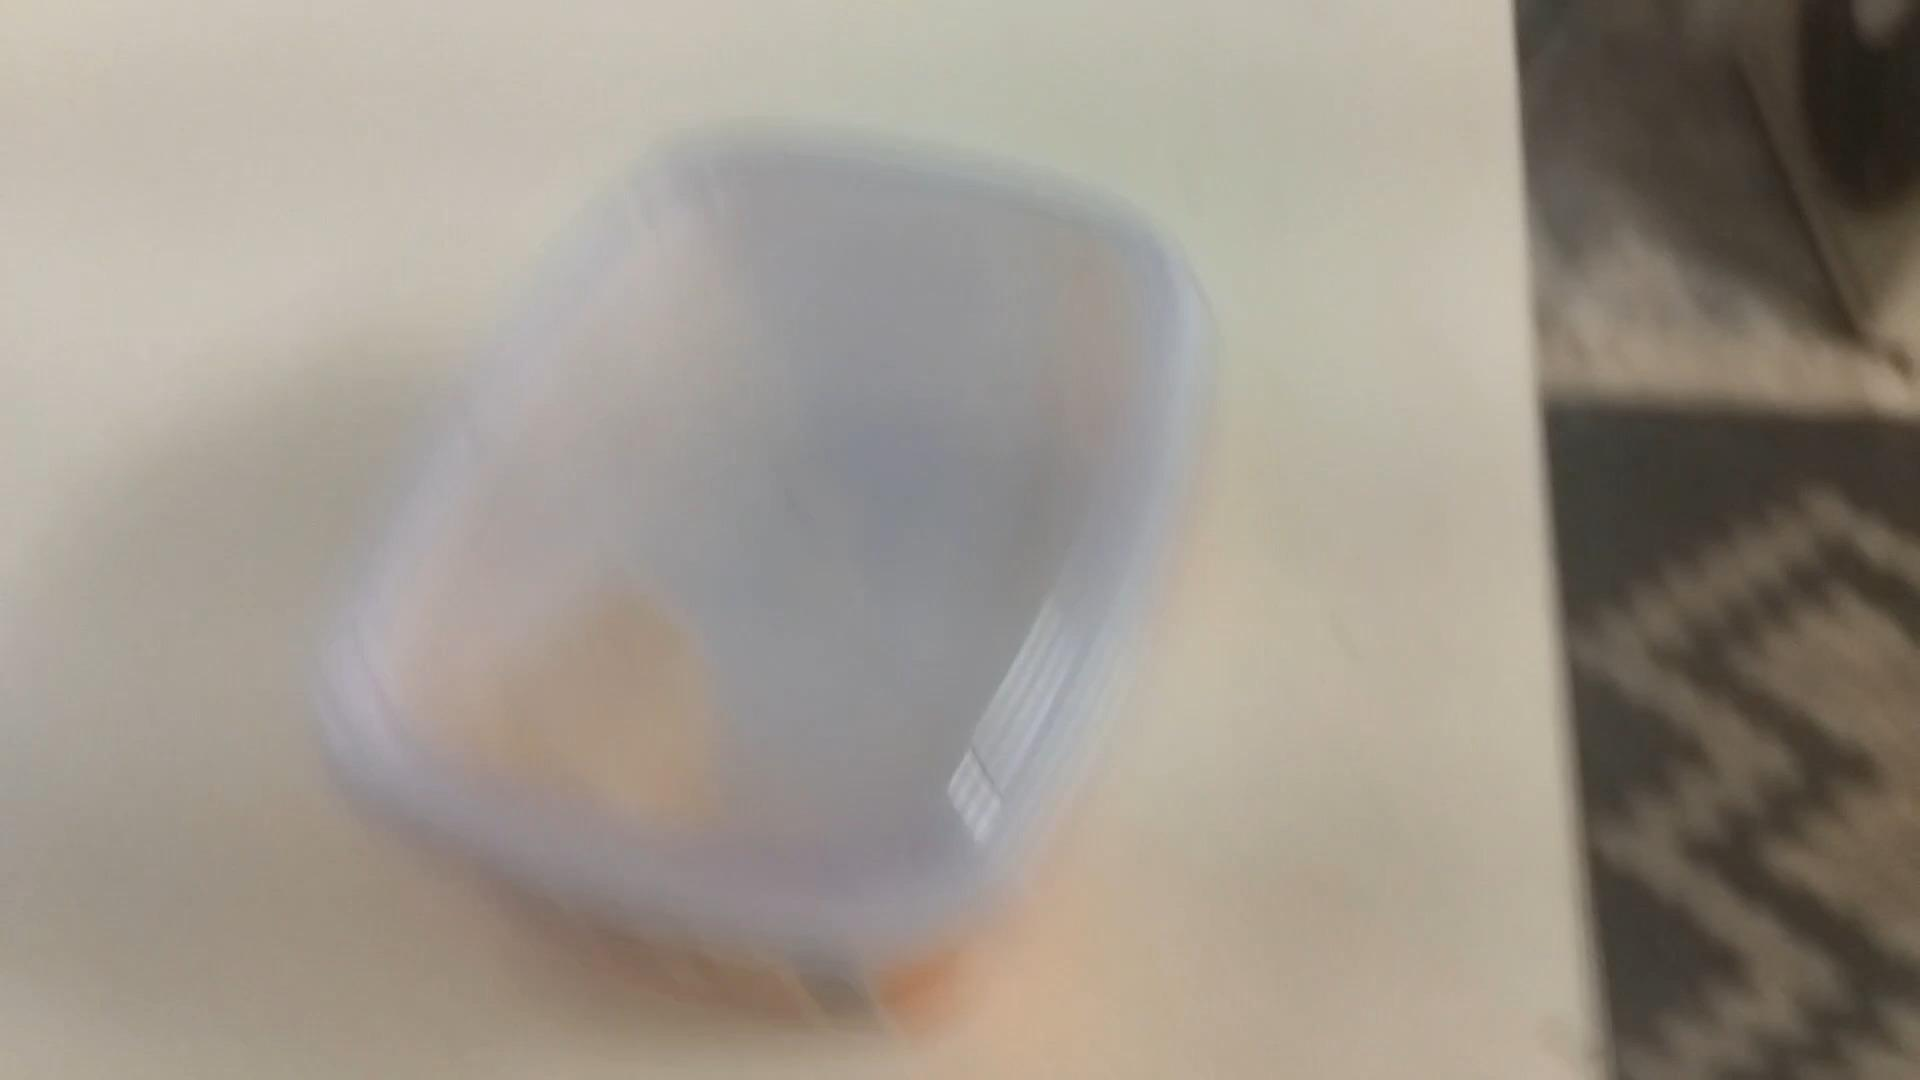butter: (305, 131, 1211, 1019)
